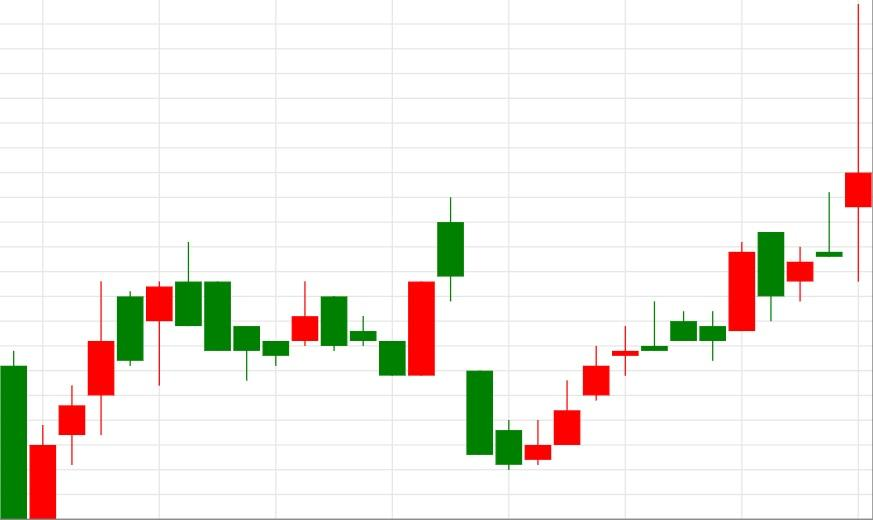bullish_engulfing_rise: (291, 280, 435, 377)
three_white_soldiers_rise: (437, 197, 611, 470), (0, 281, 116, 520)
